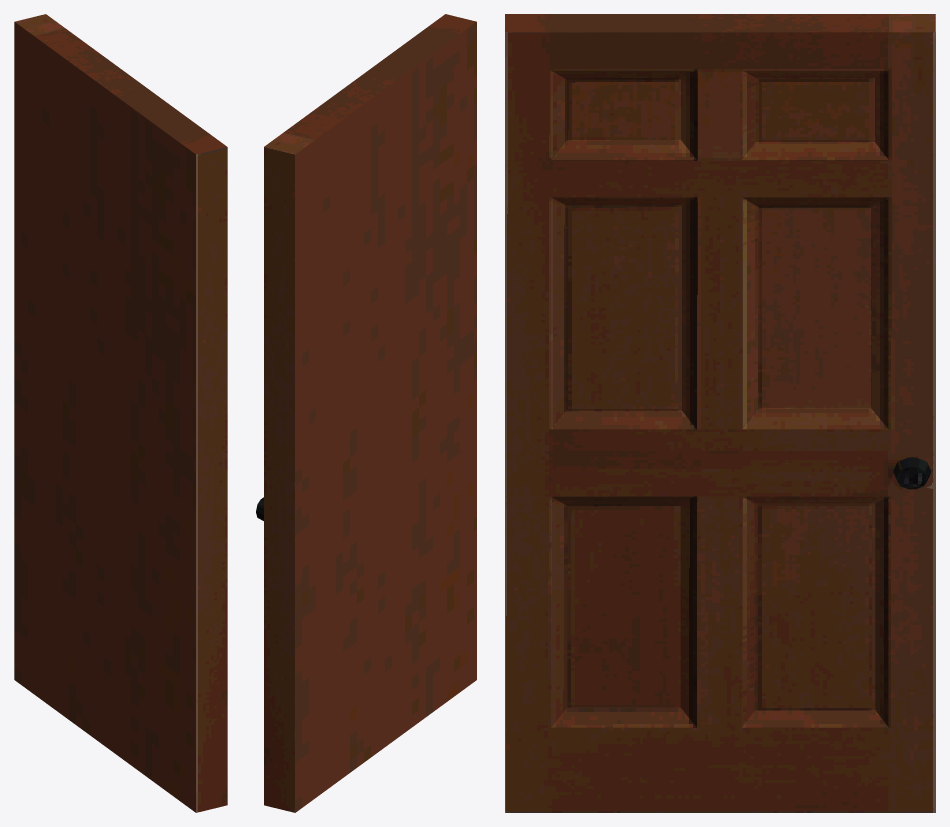
Rendered from door.glb.
3 renders of one model, left to right at view 1: azimuth 30°, elevation 25°; view 2: azimuth 150°, elevation 25°; view 3: azimuth 270°, elevation 25°, orthographic. The views are drawn at different scales.
Parts seen in each view (by area): view 1: Exit; view 2: Exit; view 3: Exit.
Part boxes in pixels (x1,y1,x2,y2): Exit: [14, 14, 227, 812]; Exit: [256, 14, 476, 812]; Exit: [505, 14, 935, 812].
Size of the model in its own units: 0.1363 by 2 by 1.
1 material, 1 textured.
